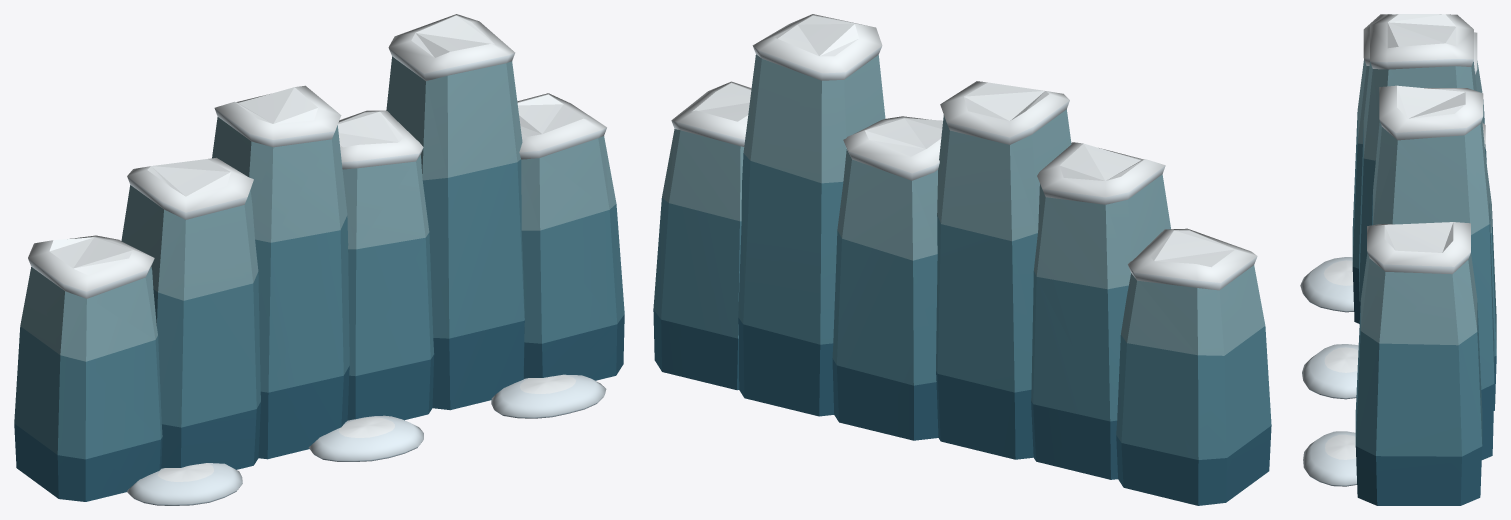
File: Environment_Snow_IceWall8m_001.glb
The picture shows the model from 3 angles, left to right: view 1: azimuth 30°, elevation 25°; view 2: azimuth 150°, elevation 25°; view 3: azimuth 270°, elevation 25°; orthographic projection. The views are drawn at different scales.
Visible parts, largest first — view 1: SN_IceWall8m_Body; view 2: SN_IceWall8m_Body; view 3: SN_IceWall8m_Body.
Part boxes in pixels (bbox=[...]): SN_IceWall8m_Body: bbox=[14, 14, 624, 505]; SN_IceWall8m_Body: bbox=[653, 14, 1271, 505]; SN_IceWall8m_Body: bbox=[1300, 14, 1496, 505].
Bounding box in the file's own units: 8.13 × 4.77 × 2.48.
